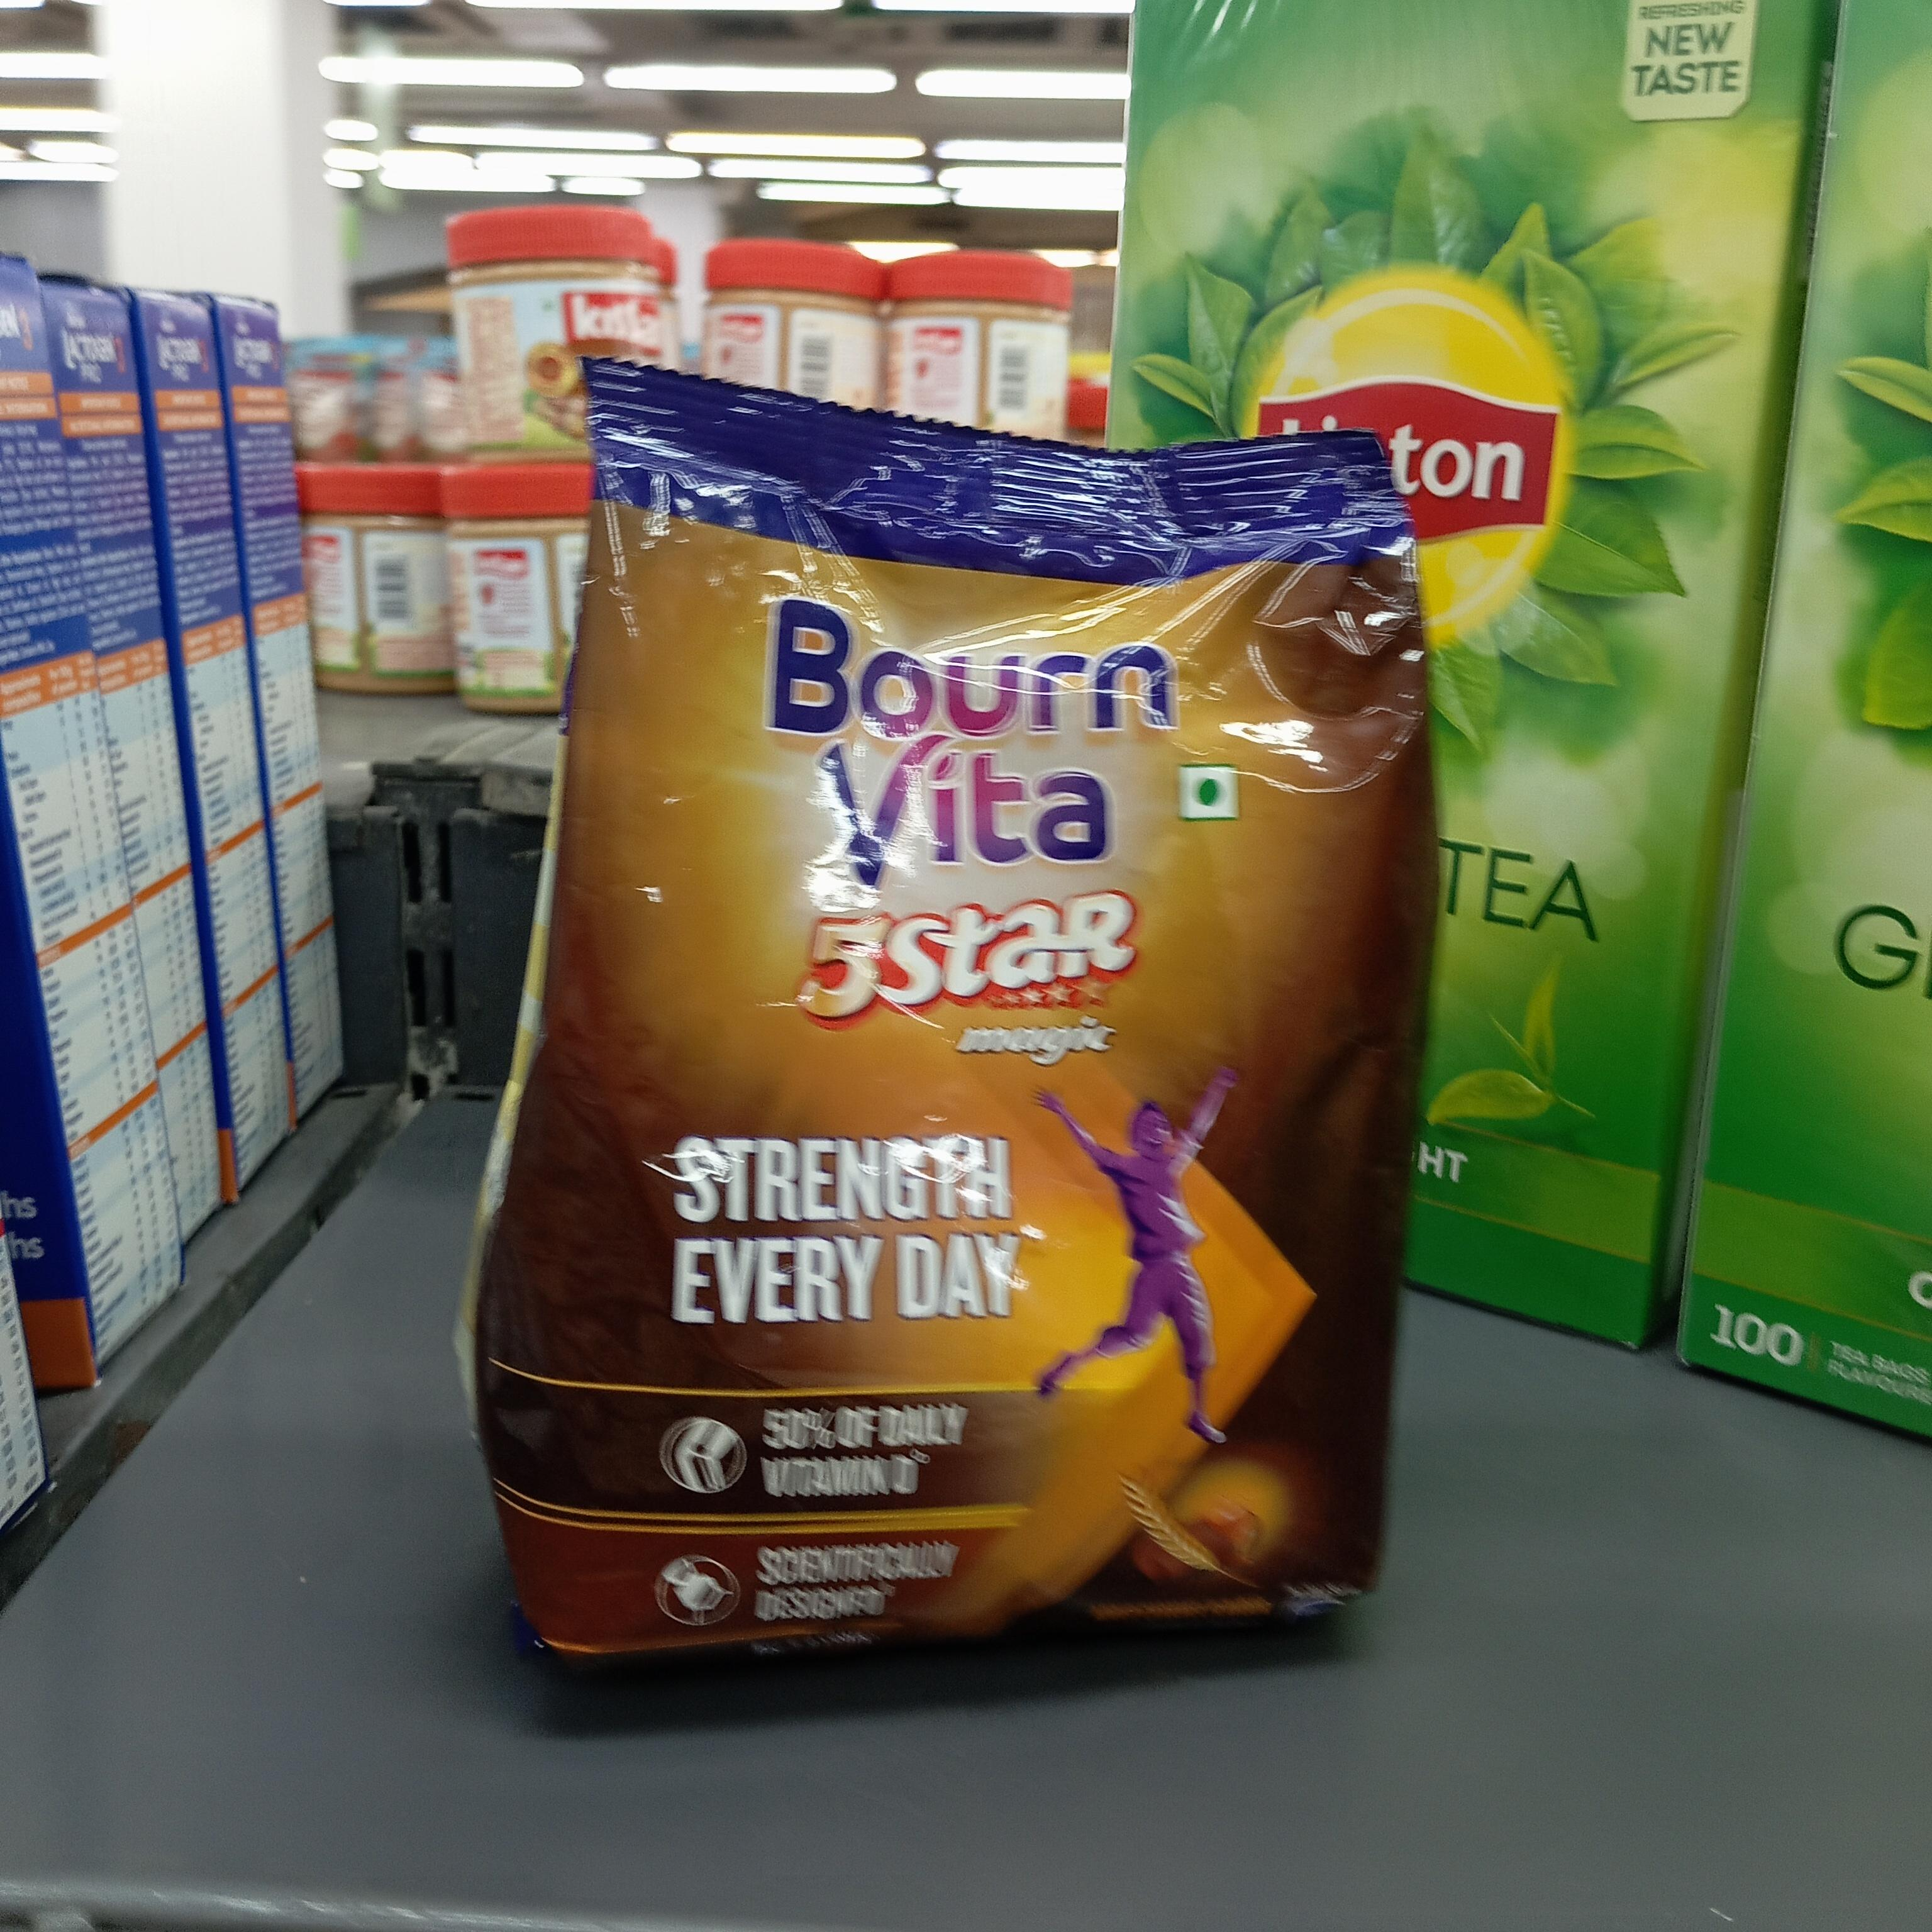BOURN_VITA_FIVE_STAR_MAGIC_500_G_POUCH: (547, 352, 1415, 1660)
